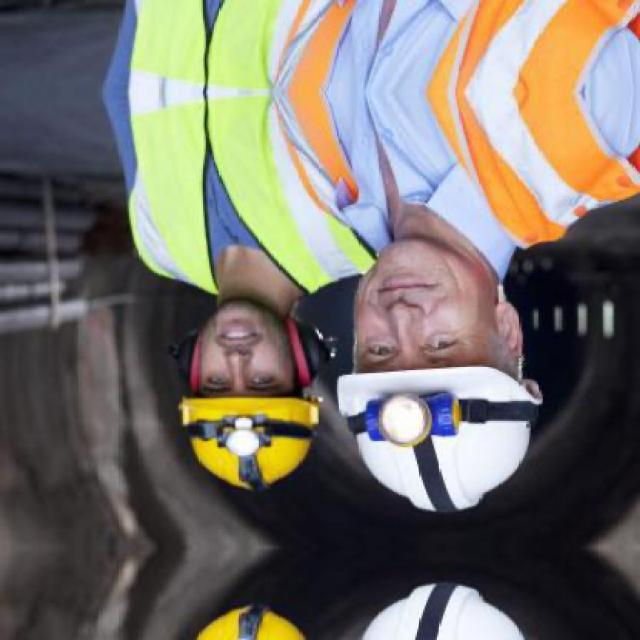con casco: (347, 198, 555, 504), (116, 255, 326, 530)
